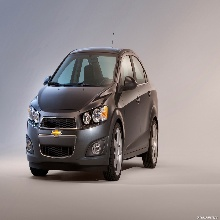no damage: (25, 46, 161, 182)
